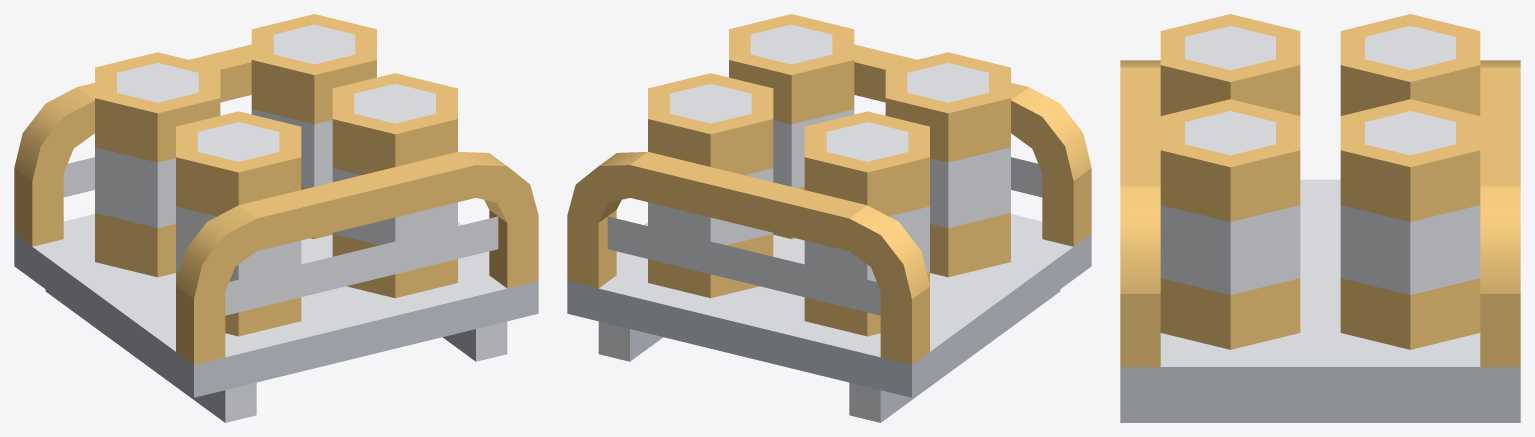
The model's file is barrels_rail.glb.
The picture shows the model from 3 angles, left to right: view 1: azimuth 30°, elevation 25°; view 2: azimuth 150°, elevation 25°; view 3: azimuth 270°, elevation 25°; orthographic projection. The views are drawn at different scales.
Visible parts, largest first — view 1: barrels_rail; view 2: barrels_rail; view 3: barrels_rail.
Part boxes in pixels (x1,y1,x2,y2): barrels_rail: (14, 14, 538, 422); barrels_rail: (567, 14, 1091, 422); barrels_rail: (1120, 14, 1520, 422).
Size of the model in its own units: 0.715 by 0.455 by 0.6453.
